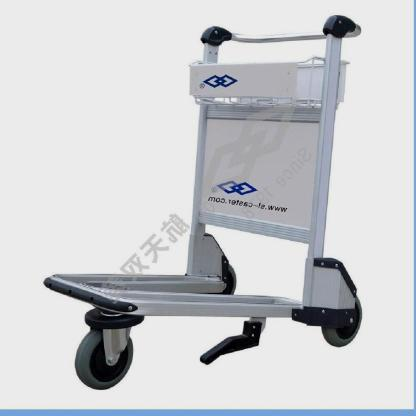airport-trolley: (43, 15, 370, 390)
